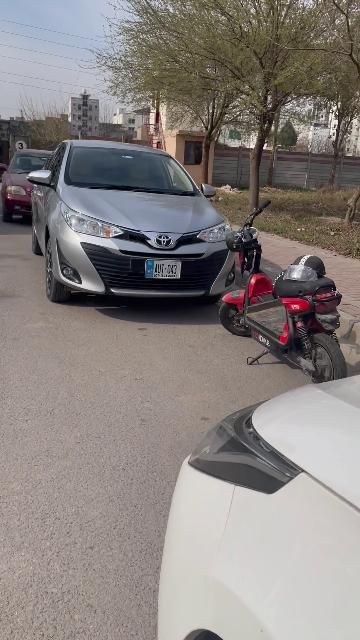plate: (146, 260, 180, 278)
